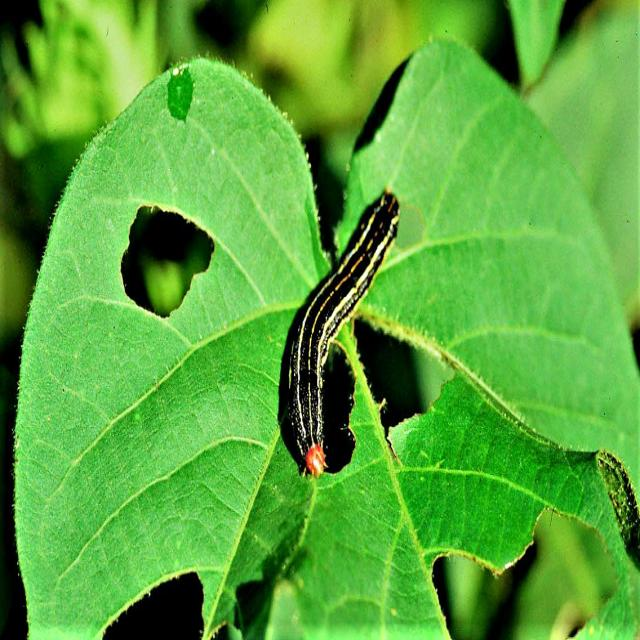Armyworm: (253, 172, 398, 477)
Armyworm_damage: (121, 187, 220, 346), (350, 290, 442, 442), (324, 337, 360, 483)
